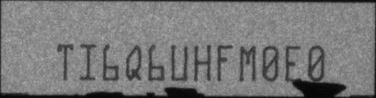0: (307, 43, 327, 82), (261, 43, 278, 81)
6: (147, 41, 165, 81), (101, 43, 119, 81)
E: (283, 44, 301, 81)
F: (216, 43, 233, 83)
H: (193, 43, 212, 82)
I: (79, 42, 97, 81)
M: (238, 44, 257, 82)
Q: (125, 43, 143, 81)
T: (57, 42, 74, 81)
U: (169, 41, 188, 81)
